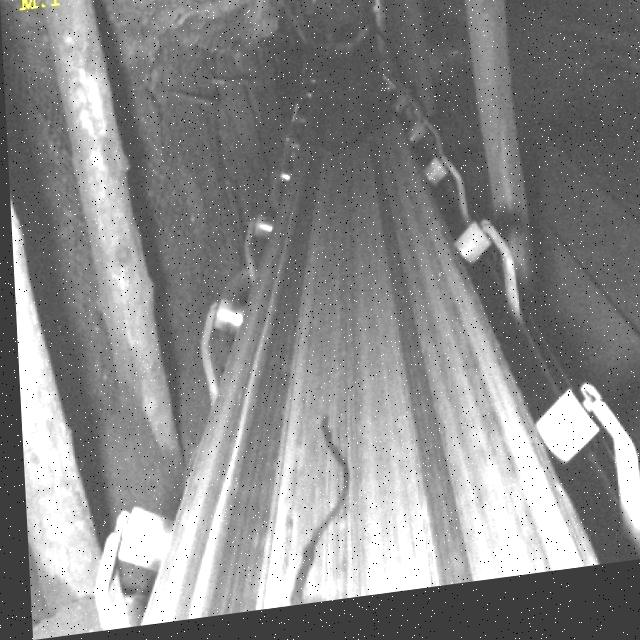bolt: (278, 421, 354, 613)
